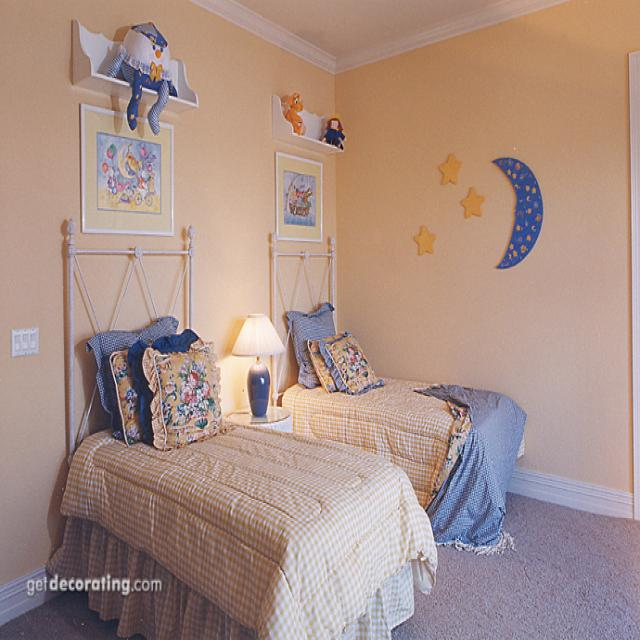bed -occluded-: (51, 214, 436, 637), (269, 229, 525, 543)
ceiling beam: (235, 0, 505, 56)
cuddly toy occluded: (114, 21, 173, 134)
cushion: (85, 318, 176, 440), (125, 333, 195, 445), (285, 301, 334, 386), (110, 345, 140, 445), (306, 336, 337, 392)
cushion occluded: (144, 340, 222, 451), (321, 330, 383, 393)
floor -X: (0, 444, 638, 637)
lamp crop: (230, 310, 285, 415)
moon decoration: (489, 155, 542, 267)
night table: (240, 399, 289, 428)
picture crop: (77, 103, 173, 232), (275, 149, 321, 240)
shelf crop: (70, 16, 196, 115), (271, 90, 343, 153)
switch: (11, 326, 37, 356)
toy crio: (282, 93, 302, 133), (321, 114, 341, 145)
wall clock: (1, 0, 338, 624), (334, 0, 638, 518)
